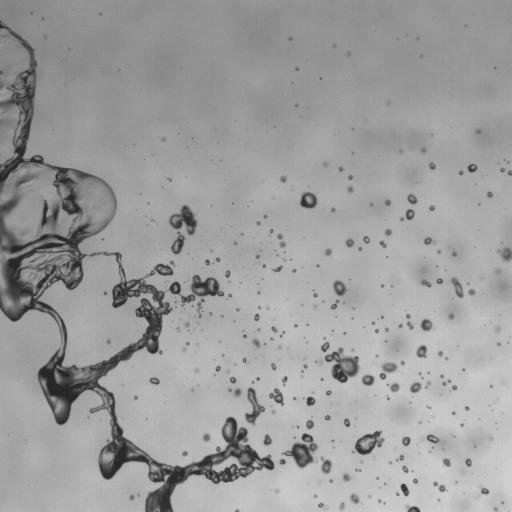droplet: (316, 347, 360, 383), (168, 205, 197, 254), (283, 433, 317, 468), (353, 430, 384, 455), (379, 362, 397, 379), (300, 192, 317, 209), (269, 388, 284, 405), (332, 280, 347, 296), (320, 457, 332, 474), (497, 247, 511, 261), (420, 318, 433, 331), (474, 486, 488, 498), (409, 381, 421, 394), (400, 209, 414, 220), (416, 344, 427, 358), (361, 374, 374, 385), (387, 382, 399, 392), (400, 483, 409, 496), (407, 194, 417, 204), (304, 396, 315, 405), (229, 388, 241, 396), (252, 338, 261, 348), (305, 419, 314, 429), (350, 493, 359, 503), (321, 341, 329, 352), (263, 434, 271, 445), (424, 237, 436, 244), (467, 164, 477, 172), (402, 436, 410, 446), (346, 238, 354, 247), (202, 433, 210, 442), (420, 279, 430, 286), (149, 377, 159, 384), (442, 458, 450, 466), (342, 473, 350, 481), (324, 248, 331, 255), (407, 321, 413, 329), (344, 418, 350, 426), (465, 458, 471, 466), (318, 502, 326, 508), (282, 376, 287, 385), (429, 162, 435, 169), (280, 175, 286, 182), (347, 186, 353, 193), (363, 236, 369, 243), (204, 259, 211, 265), (468, 289, 475, 295), (230, 376, 236, 383), (279, 458, 285, 465), (402, 465, 408, 472), (225, 270, 230, 278), (254, 313, 259, 321), (339, 502, 344, 510), (486, 191, 492, 197), (385, 229, 391, 235), (380, 241, 386, 247), (448, 313, 454, 319), (271, 326, 277, 332), (437, 350, 443, 356), (242, 357, 248, 363), (425, 381, 431, 387), (271, 363, 276, 370), (436, 278, 442, 283), (495, 326, 500, 332), (397, 455, 403, 460), (338, 166, 343, 171), (385, 200, 390, 205), (429, 205, 434, 210), (495, 269, 500, 274), (400, 360, 405, 365), (215, 366, 220, 371), (452, 385, 457, 390), (326, 390, 331, 395), (325, 415, 330, 420), (182, 451, 187, 456), (413, 478, 418, 483), (129, 494, 134, 499), (421, 148, 425, 153), (507, 170, 511, 175), (269, 229, 273, 234), (452, 251, 456, 256), (313, 292, 317, 297), (185, 322, 189, 327), (303, 364, 307, 369), (194, 368, 198, 373), (476, 129, 480, 133), (161, 137, 165, 141), (323, 162, 327, 166), (500, 168, 504, 172), (348, 175, 352, 179), (167, 177, 171, 181), (263, 214, 267, 218), (256, 221, 260, 225), (437, 249, 441, 253), (216, 257, 220, 261), (292, 268, 296, 272), (406, 314, 410, 318), (398, 324, 402, 328), (176, 327, 180, 331), (133, 395, 137, 399), (293, 397, 297, 401), (465, 406, 469, 410), (494, 507, 498, 511), (355, 468, 360, 471), (459, 170, 462, 174), (255, 255, 259, 258), (103, 291, 107, 294), (106, 340, 110, 343), (386, 396, 389, 400), (275, 489, 279, 492), (234, 509, 239, 511), (295, 67, 298, 70), (399, 150, 402, 153), (331, 208, 334, 211), (234, 242, 237, 245), (358, 247, 361, 250), (262, 264, 265, 267), (375, 329, 378, 332), (385, 328, 388, 331), (243, 334, 246, 337), (497, 342, 500, 345), (419, 373, 422, 376), (256, 377, 259, 380), (427, 405, 430, 408), (271, 410, 274, 413), (452, 411, 455, 414), (329, 479, 332, 482), (378, 499, 381, 502), (289, 37, 291, 40), (381, 284, 383, 287), (236, 308, 238, 311), (294, 324, 297, 326), (270, 337, 272, 340), (186, 342, 189, 344), (445, 357, 447, 360), (320, 378, 323, 380), (490, 437, 493, 439), (389, 461, 391, 464), (455, 480, 457, 483), (314, 494, 316, 497), (347, 52, 349, 54), (283, 259, 285, 261), (228, 295, 230, 297), (266, 306, 268, 308), (314, 306, 316, 308), (209, 312, 211, 314), (372, 322, 374, 324), (343, 332, 345, 334), (280, 334, 282, 336), (263, 343, 265, 345), (278, 346, 280, 348), (351, 348, 353, 350), (227, 370, 229, 372), (440, 375, 442, 377), (396, 493, 398, 495), (138, 494, 140, 496), (368, 495, 370, 497)
ligament: (0, 20, 271, 511), (244, 387, 264, 424), (450, 277, 463, 298), (422, 434, 439, 443), (433, 481, 446, 492), (277, 233, 285, 247), (406, 505, 420, 511), (330, 299, 338, 309), (272, 265, 282, 271), (443, 379, 451, 385)
